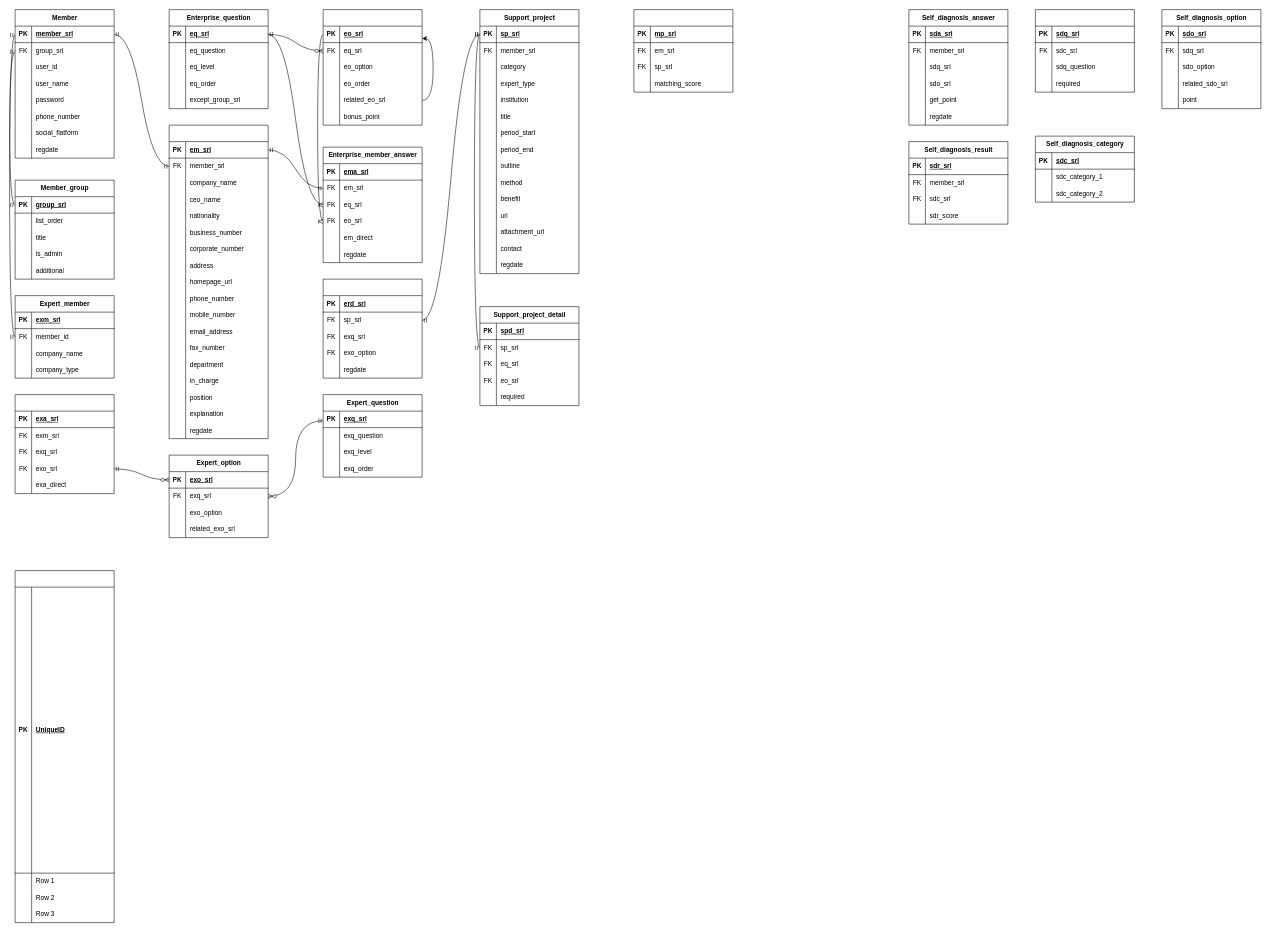
This 1271x932 diagram has some shape labels left out. Each missing label, with the box of its shape:
Enterprise_member: (169, 125, 268, 439)
Enterprise_option: (323, 9, 422, 125)
Expert_member_answer: (15, 394, 114, 494)
Expert_recruit_detail: (323, 279, 422, 378)
Matched_project: (633, 9, 733, 92)
Self_diagnosis_question: (1035, 9, 1134, 92)
Table: (15, 570, 114, 923)
